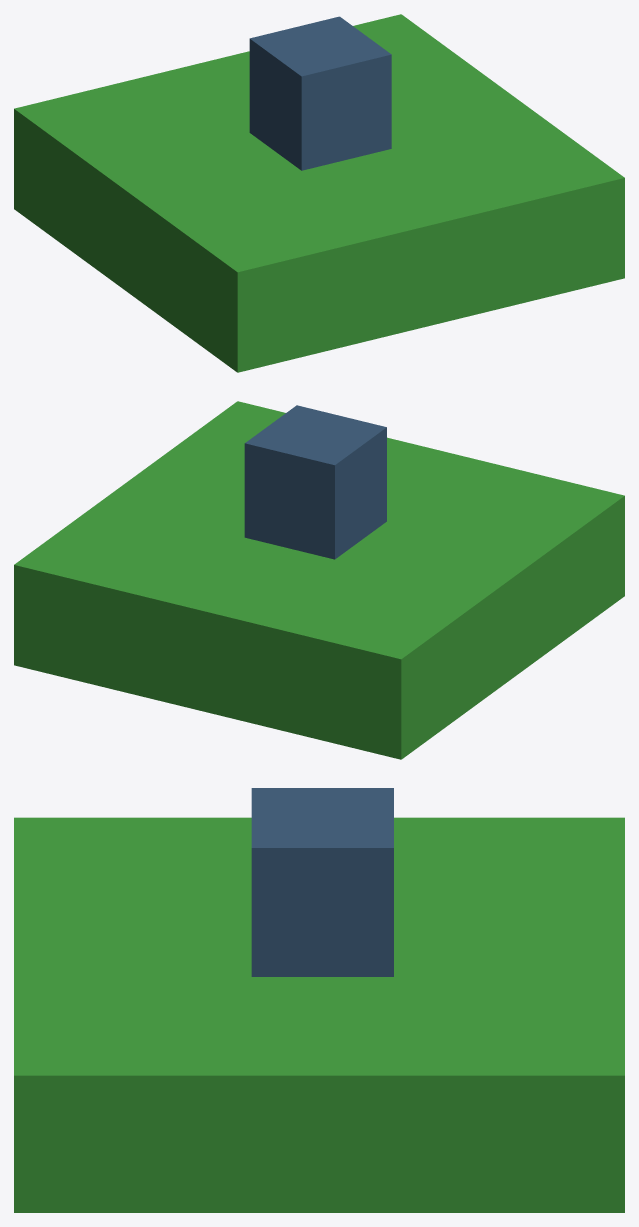
Rendered from sample.glb.
3 renders of one model, top to bottom at view 1: azimuth 30°, elevation 25°; view 2: azimuth 150°, elevation 25°; view 3: azimuth 270°, elevation 25°, orthographic. The views are drawn at different scales.
Visible parts, largest first — view 1: Cube, Cube.001; view 2: Cube, Cube.001; view 3: Cube, Cube.001.
Part boxes in pixels (x1,y1,x2,y2): Cube: [14, 14, 624, 372]; Cube.001: [249, 16, 391, 170]; Cube: [14, 401, 624, 759]; Cube.001: [244, 405, 386, 559]; Cube: [14, 817, 624, 1212]; Cube.001: [251, 788, 393, 976].
Bounding box in the file's own units: 8.6 × 4.15 × 8.6.
